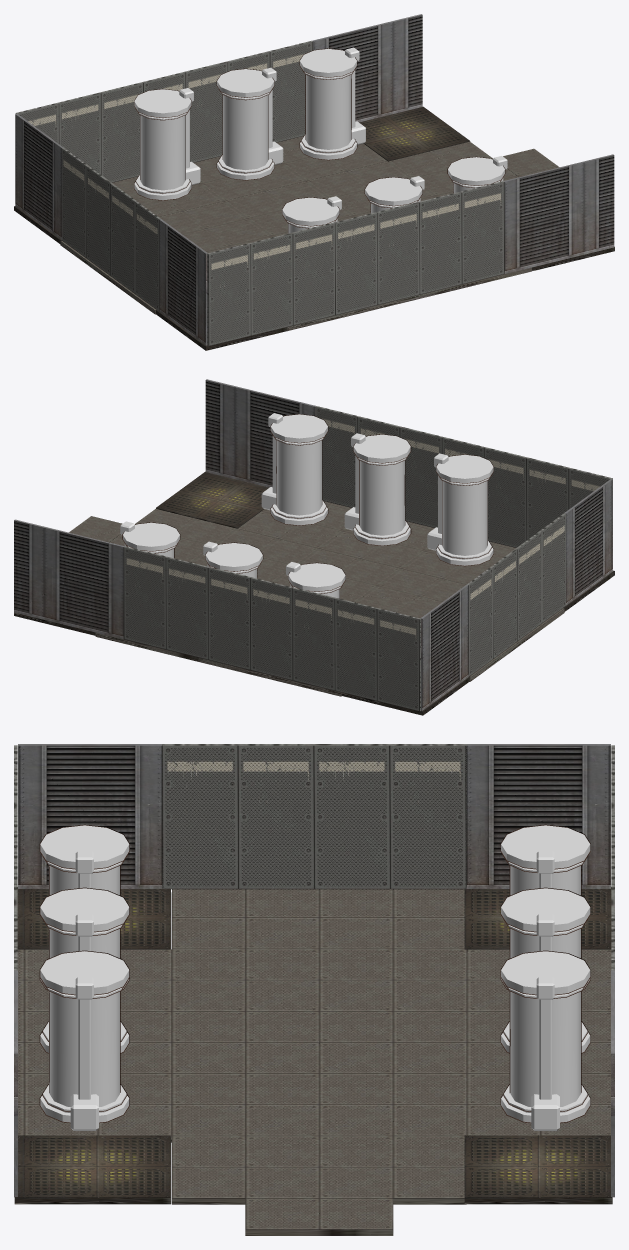
File: EnergyRoom.fbx
3 views of the same model, one above another, from view 1: azimuth 30°, elevation 25°; view 2: azimuth 150°, elevation 25°; view 3: azimuth 270°, elevation 25° (orthographic). The views are drawn at different scales.
Visible parts, largest first — view 1: Cube.023, Cube.003, Energy_Storage.002, Cube.026, Cube.020, Cube.021, Energy_Storage.003, Cube.022, Cube.024, Cube.016, Cube.018; view 2: Cube.020, Cube.003, Energy_Storage.003, Cube.026, Cube.023, Cube.021, Energy_Storage.002, Cube.024, Cube.022, Cube.012, Cube.014; view 3: Cube.003, Cube.021, Energy_Storage.002, Energy_Storage.003, Cube.024, Cube.022, Cube.012, Cube.016, Cube.018, Cube.014, Cube.026, Cube.020 (+1 smaller).
Boxes of the visible parts, left/top/right/bottom form: Cube.023: left=207, top=181, right=504, bottom=346; Cube.003: left=60, top=136, right=559, bottom=330; Energy_Storage.002: left=134, top=47, right=365, bottom=200; Cube.026: left=312, top=14, right=614, bottom=273; Cube.020: left=15, top=40, right=312, bottom=182; Cube.021: left=61, top=148, right=160, bottom=311; Energy_Storage.003: left=282, top=156, right=507, bottom=233; Cube.022: left=159, top=219, right=207, bottom=345; Cube.024: left=15, top=114, right=63, bottom=239; Cube.016: left=359, top=106, right=470, bottom=161; Cube.018: left=155, top=310, right=287, bottom=350; Cube.020: left=123, top=546, right=420, bottom=711; Cube.003: left=69, top=501, right=564, bottom=696; Energy_Storage.003: left=261, top=413, right=493, bottom=566; Cube.026: left=14, top=379, right=316, bottom=639; Cube.023: left=315, top=406, right=612, bottom=547; Cube.021: left=467, top=513, right=565, bottom=676; Energy_Storage.002: left=120, top=521, right=345, bottom=598; Cube.024: left=420, top=584, right=468, bottom=710; Cube.022: left=565, top=479, right=612, bottom=605; Cube.012: left=156, top=471, right=268, bottom=528; Cube.014: left=341, top=676, right=469, bottom=715; Cube.003: left=17, top=889, right=611, bottom=1235; Cube.021: left=162, top=744, right=466, bottom=889; Energy_Storage.002: left=500, top=824, right=590, bottom=1130; Energy_Storage.003: left=39, top=824, right=129, bottom=1130; Cube.024: left=465, top=744, right=610, bottom=888; Cube.022: left=18, top=744, right=163, bottom=888; Cube.012: left=14, top=1135, right=171, bottom=1204; Cube.016: left=464, top=1135, right=612, bottom=1204; Cube.018: left=17, top=887, right=171, bottom=949; Cube.014: left=464, top=887, right=611, bottom=949; Cube.026: left=14, top=970, right=614, bottom=1197; Cube.020: left=611, top=745, right=614, bottom=970.
Size of the model in its own units: 9.48 by 2 by 7.04.
Materials: 7 (5 with a texture image).
